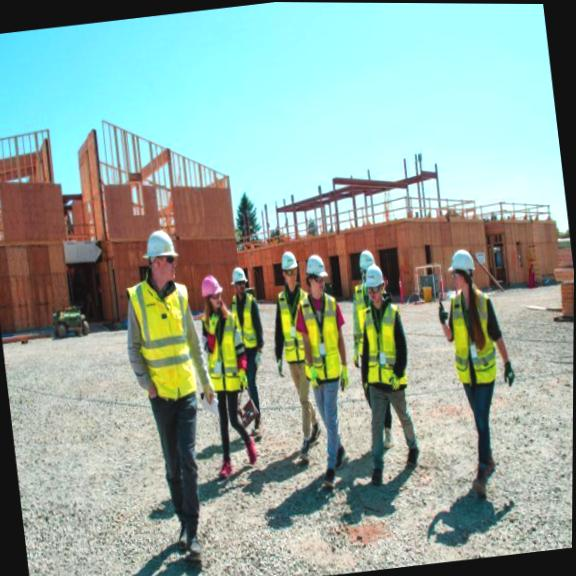safety_vest: (118, 277, 208, 423), (440, 282, 507, 398), (295, 285, 346, 396), (359, 298, 407, 395), (198, 309, 247, 399), (274, 285, 312, 368), (229, 290, 265, 354)
